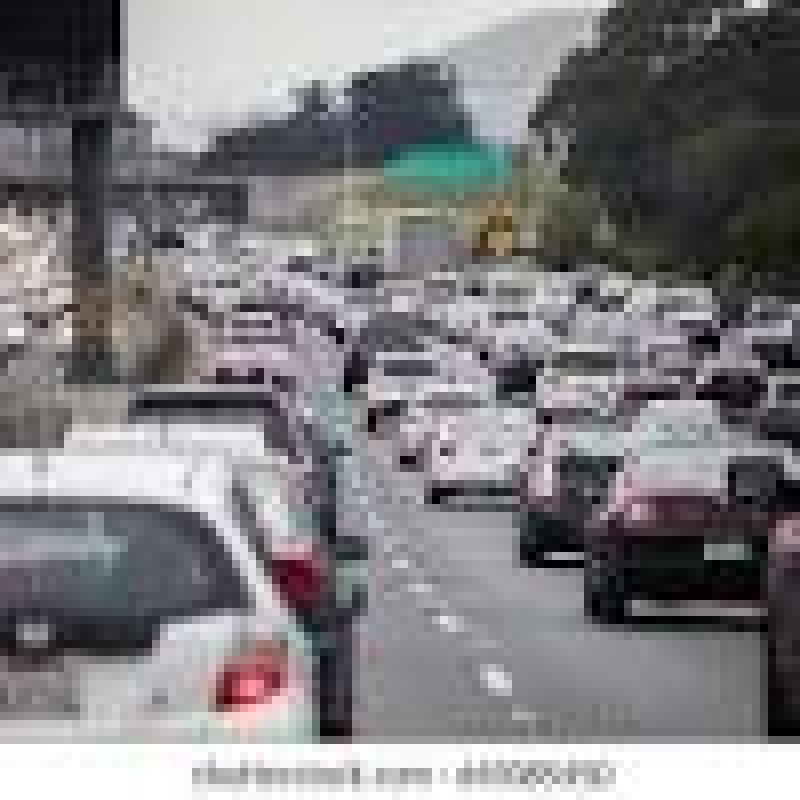car: (0, 432, 344, 800), (96, 390, 338, 688), (600, 424, 800, 594), (425, 406, 544, 492)
